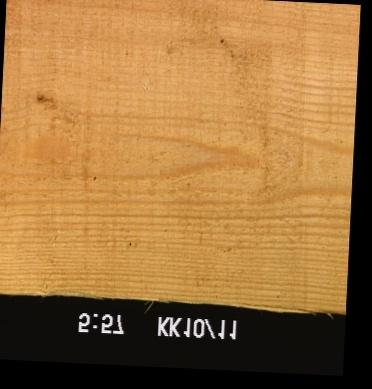small_knot: (33, 91, 45, 104)
